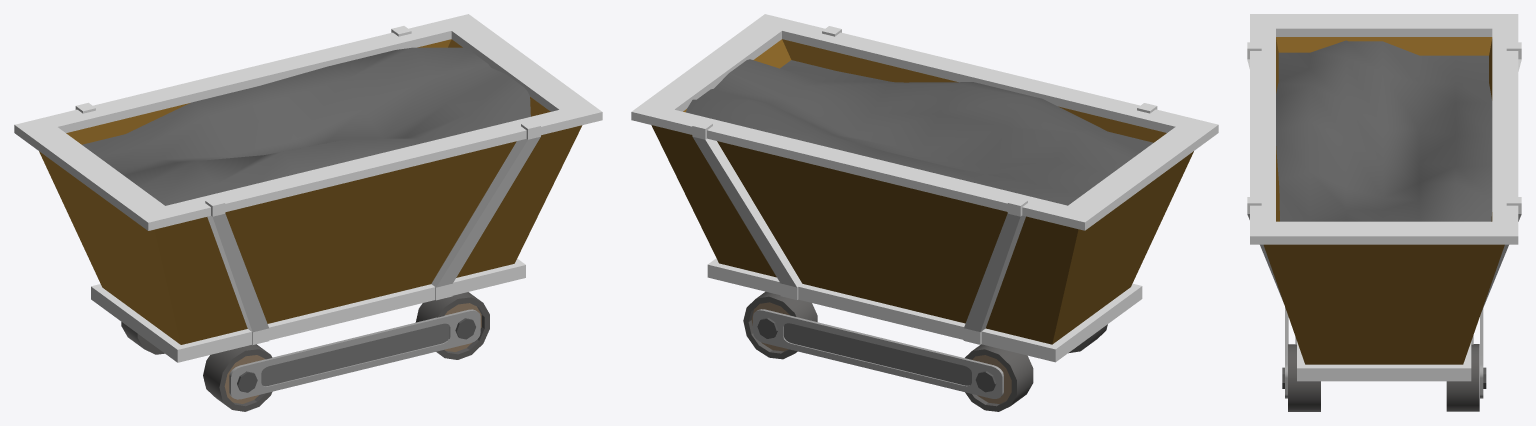
Rendered from Minecart.fbx.
3 renders of one model, left to right at view 1: azimuth 30°, elevation 25°; view 2: azimuth 150°, elevation 25°; view 3: azimuth 270°, elevation 25°, orthographic.
Visible parts, largest first — view 1: CoalBase4; view 2: CoalBase4; view 3: CoalBase4.
Part boxes in pixels (left/top/right/bottom): CoalBase4: left=14, top=14, right=602, bottom=411; CoalBase4: left=631, top=14, right=1218, bottom=411; CoalBase4: left=1247, top=14, right=1521, bottom=411.
Size of the model in its own units: 3.69 by 1.88 by 1.92.
